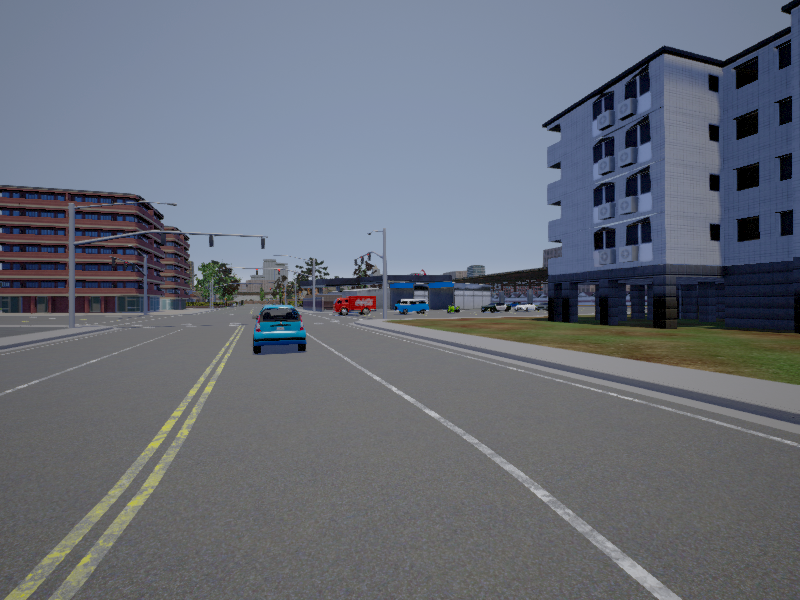Benign: (255, 309, 306, 353), (334, 294, 376, 318), (396, 298, 431, 315), (479, 301, 513, 314)
